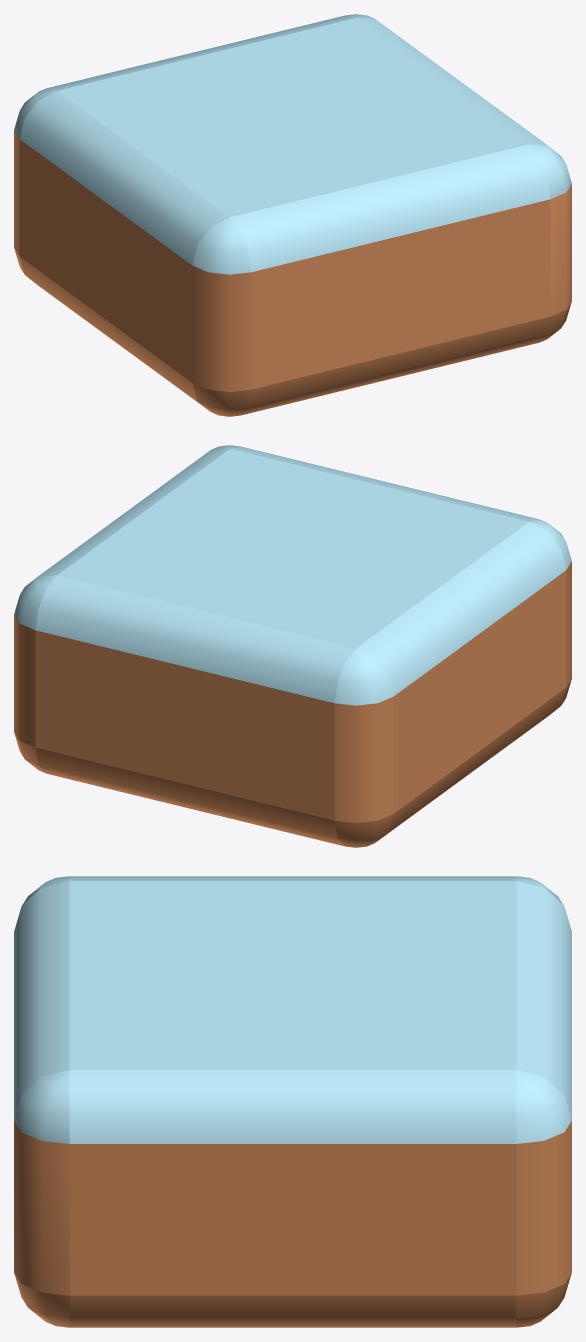
Rendered from blockSnowRoundedLow.glb.
3 views of the same model, one above another, from view 1: azimuth 30°, elevation 25°; view 2: azimuth 150°, elevation 25°; view 3: azimuth 270°, elevation 25° (orthographic). The views are drawn at different scales.
Visible parts, largest first — view 1: blockSnowRoundedLow; view 2: blockSnowRoundedLow; view 3: blockSnowRoundedLow.
Part boxes in pixels (x1,y1,x2,y2): blockSnowRoundedLow: [14, 14, 571, 416]; blockSnowRoundedLow: [14, 445, 571, 847]; blockSnowRoundedLow: [14, 876, 571, 1327].
Size of the model in its own units: 1 by 0.5 by 1.
